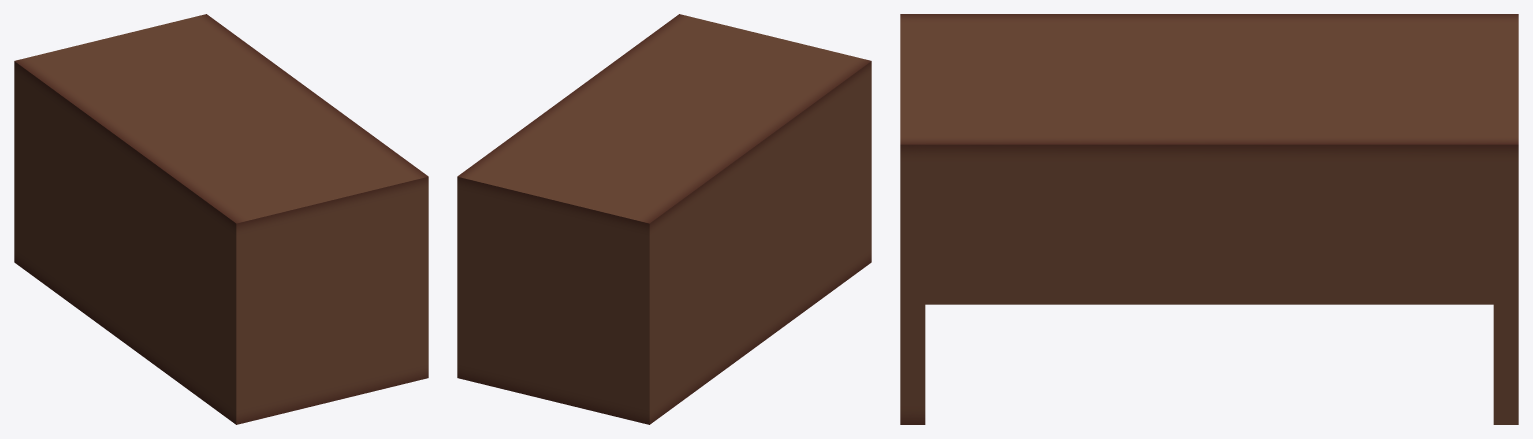
Rendered from Bureau.fbx.
The picture shows the model from 3 angles, left to right: view 1: azimuth 30°, elevation 25°; view 2: azimuth 150°, elevation 25°; view 3: azimuth 270°, elevation 25°; orthographic projection. The views are drawn at different scales.
Parts seen in each view (by area): view 1: Bureau; view 2: Bureau; view 3: Bureau.
Boxes of the visible parts, bbox=[...] form: Bureau: bbox=[14, 14, 428, 424]; Bureau: bbox=[457, 14, 871, 424]; Bureau: bbox=[900, 14, 1518, 424].
Size of the model in its own units: 1 by 1 by 2.
